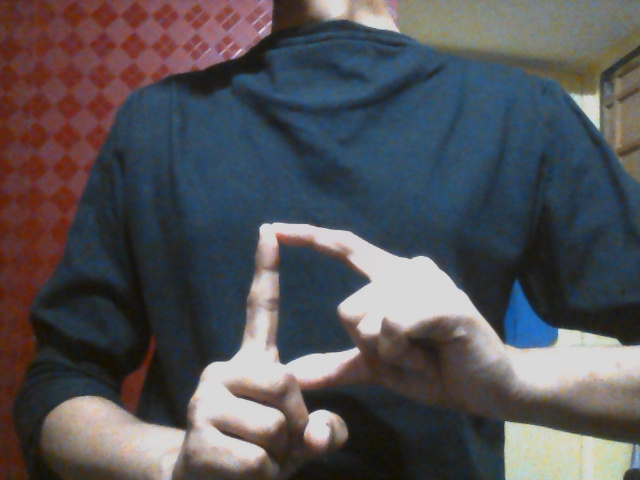D: (184, 221, 481, 477)
